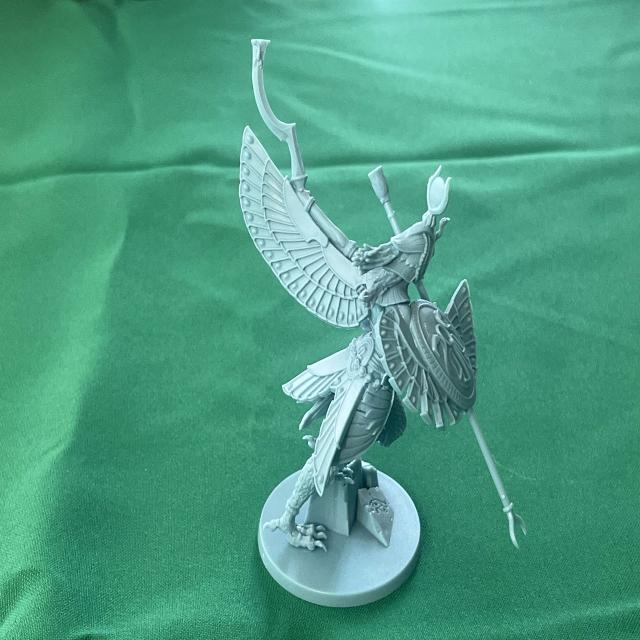isis: (228, 31, 537, 612)
